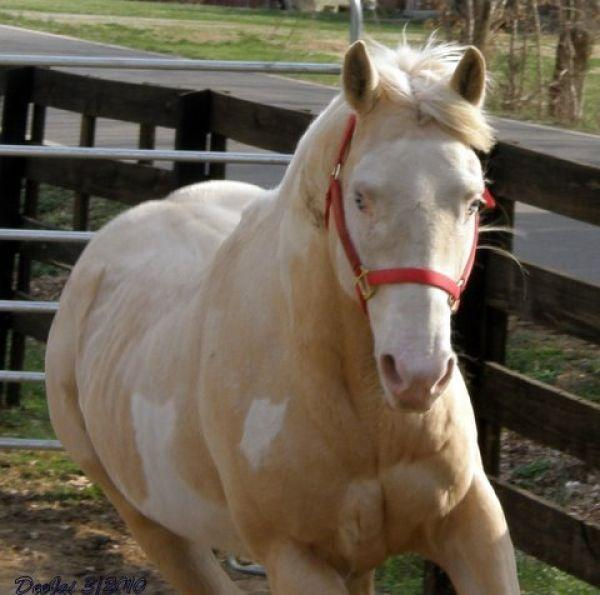horse: (43, 23, 524, 594)
